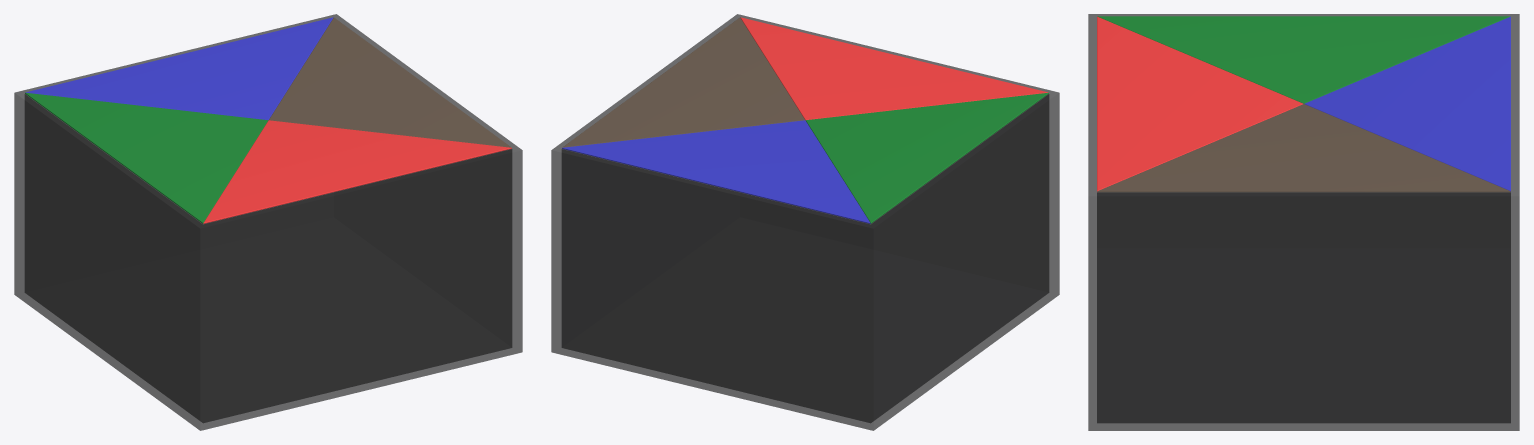
The model's file is Nashat2.glb.
The picture shows the model from 3 angles, left to right: view 1: azimuth 30°, elevation 25°; view 2: azimuth 150°, elevation 25°; view 3: azimuth 270°, elevation 25°; orthographic projection. The views are drawn at different scales.
Parts seen in each view (by area): view 1: Box002, Shape001, Object003, Object002, Object001; view 2: Box002, Object002, Object003, Shape001, Object001; view 3: Box002, Object001, Object003, Shape001, Object002.
Part boxes in pixels (box(x1,y1,x2,y2)): Box002: box(14, 14, 522, 430); Shape001: box(203, 120, 511, 223); Object003: box(25, 92, 268, 223); Object002: box(25, 17, 333, 120); Object001: box(269, 17, 511, 147); Box002: box(551, 14, 1059, 430); Object002: box(562, 120, 870, 223); Object003: box(805, 92, 1048, 223); Shape001: box(740, 17, 1048, 120); Object001: box(562, 17, 804, 147); Box002: box(1088, 14, 1519, 430); Object001: box(1097, 104, 1510, 192); Object003: box(1097, 16, 1510, 103); Shape001: box(1097, 16, 1303, 191); Object002: box(1304, 16, 1510, 191).
Bounding box in the file's own units: 0.5 × 0.302 × 0.5.
